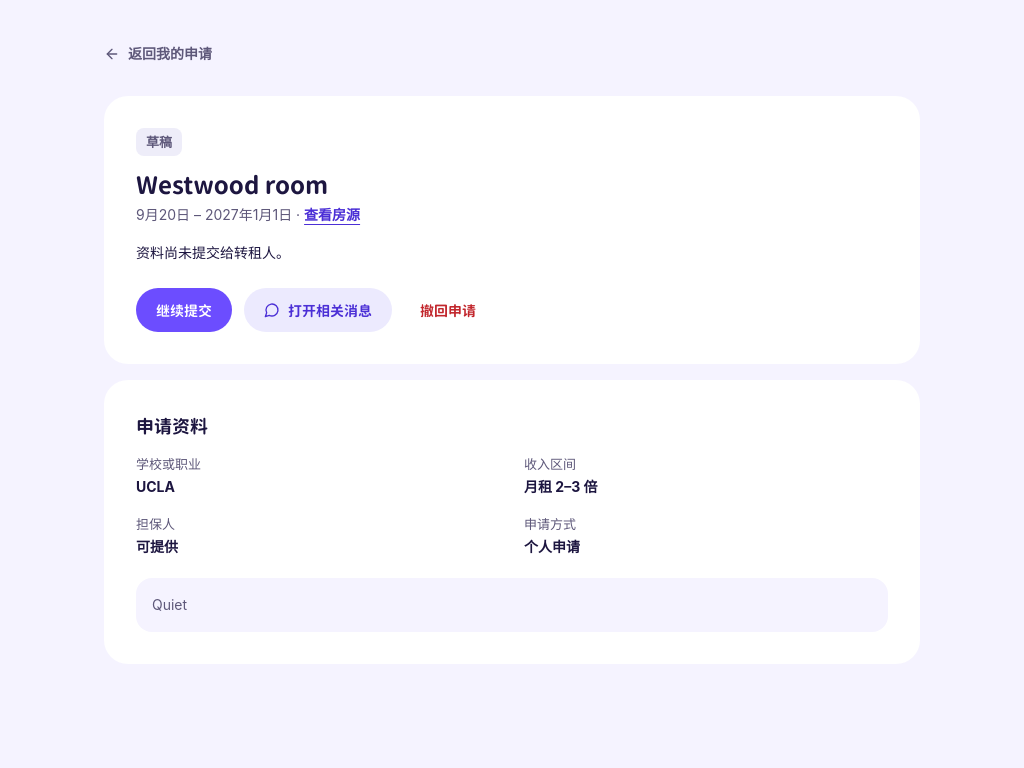
Test: rental application experiences › offers server draft continuation and withdrawal to its submitter
Click the button "继续提交". click: (184, 310)
box: [136,288,232,332]
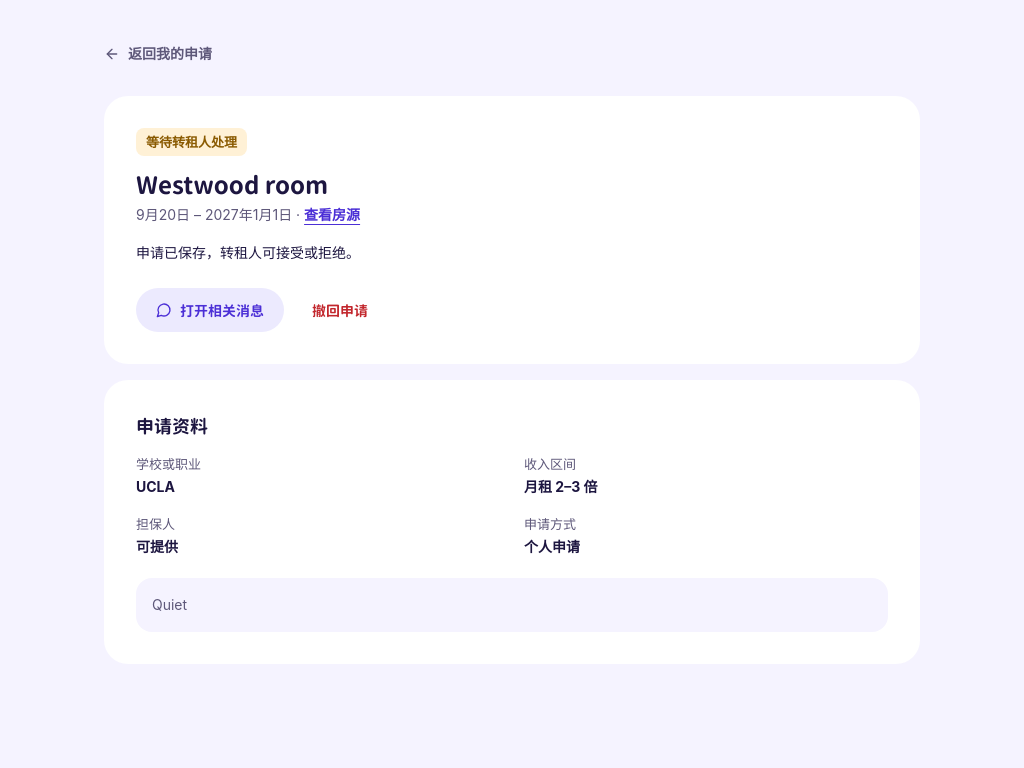
expect the text "等待转租人处理" is shown: met, box [136,128,247,156]
